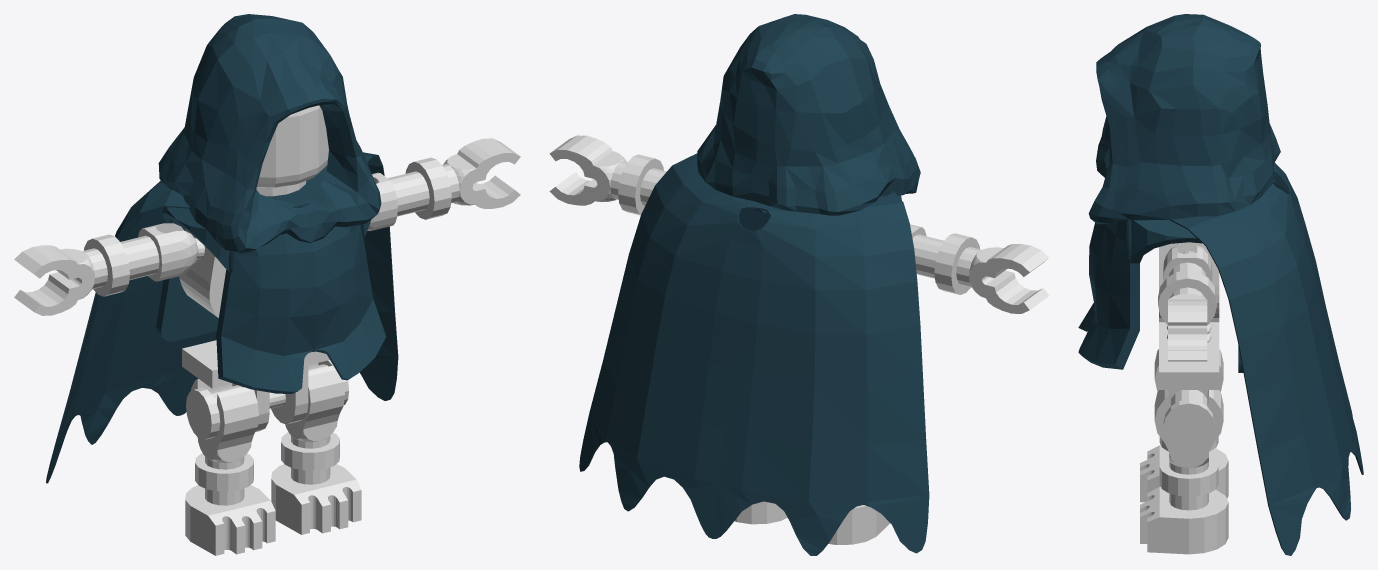
The model's file is Corvo.fbx.
3 renders of one model, left to right at view 1: azimuth 30°, elevation 25°; view 2: azimuth 150°, elevation 25°; view 3: azimuth 270°, elevation 25°, orthographic.
Visible parts, largest first — view 1: Piece008, Piece002, Piece007, Piece005, Piece006, Piece000, Piece003, Piece001, Piece004; view 2: Piece007, Piece008, Piece000, Piece003, Piece005, Piece006; view 3: Piece008, Piece007, Piece006, Piece002, Piece001, Piece003, Piece005.
Part boxes in pixels (x1,y1,x2,y2): Piece008: (158,14,381,253); Piece002: (156,207,386,393); Piece007: (46,152,398,483); Piece005: (185,379,275,555); Piece006: (271,363,361,534); Piece000: (14,223,198,315); Piece003: (367,138,520,230); Piece001: (179,229,348,439); Piece004: (256,105,328,196); Piece007: (579,153,929,555); Piece008: (697,14,920,215); Piece000: (910,224,1049,313); Piece003: (549,135,666,215); Piece005: (828,505,889,544); Piece006: (734,501,787,524); Piece008: (1088,14,1280,224); Piece007: (1169,162,1363,555); Piece006: (1140,390,1228,554); Piece002: (1078,219,1243,372); Piece001: (1159,242,1219,449); Piece003: (1158,245,1216,361); Piece005: (1140,349,1228,502).
Bounding box in the file's own units: 113 × 111 × 57.94.
